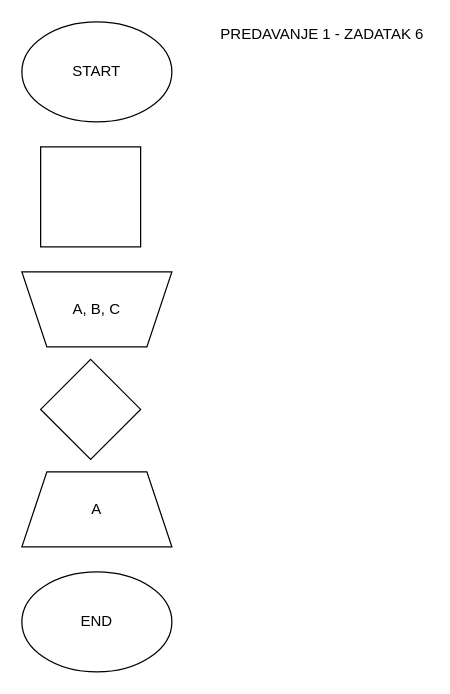
This 450x694 diagram has some shape labels left out. Each missing label, with the centre of its shape:
A=INTEGER B=INTEGER C=INTEGER: the point at 90,196
IF A<B<C: the point at 90,408
